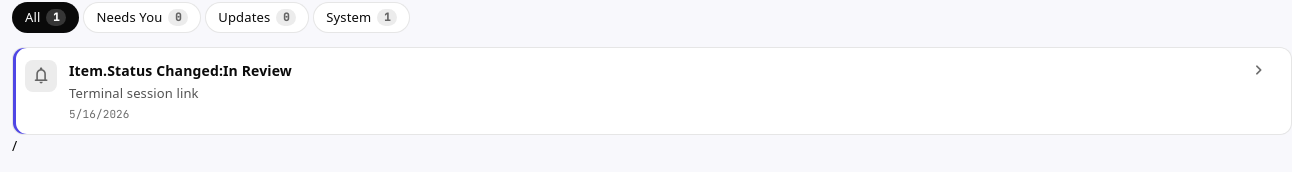
Test: InAppFeedTabContent › navigates to link_url when row has an explicit deep link
This screenshot has width=1292, height=172.
Click the text "Terminal session link": (134, 93) left=69, top=84, right=199, bottom=102
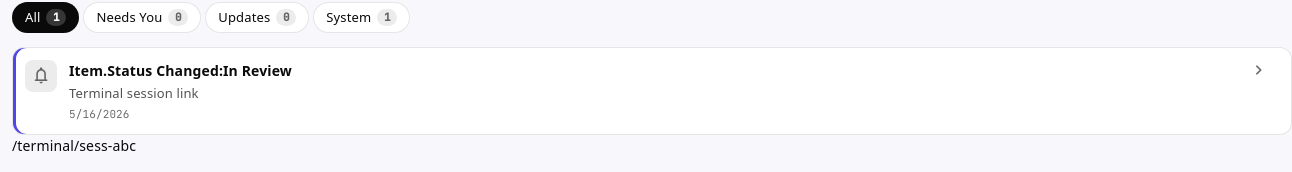
Check: the text with test id "location" reads "/terminal/sess-abc", box left=12, top=136, right=136, bottom=155
